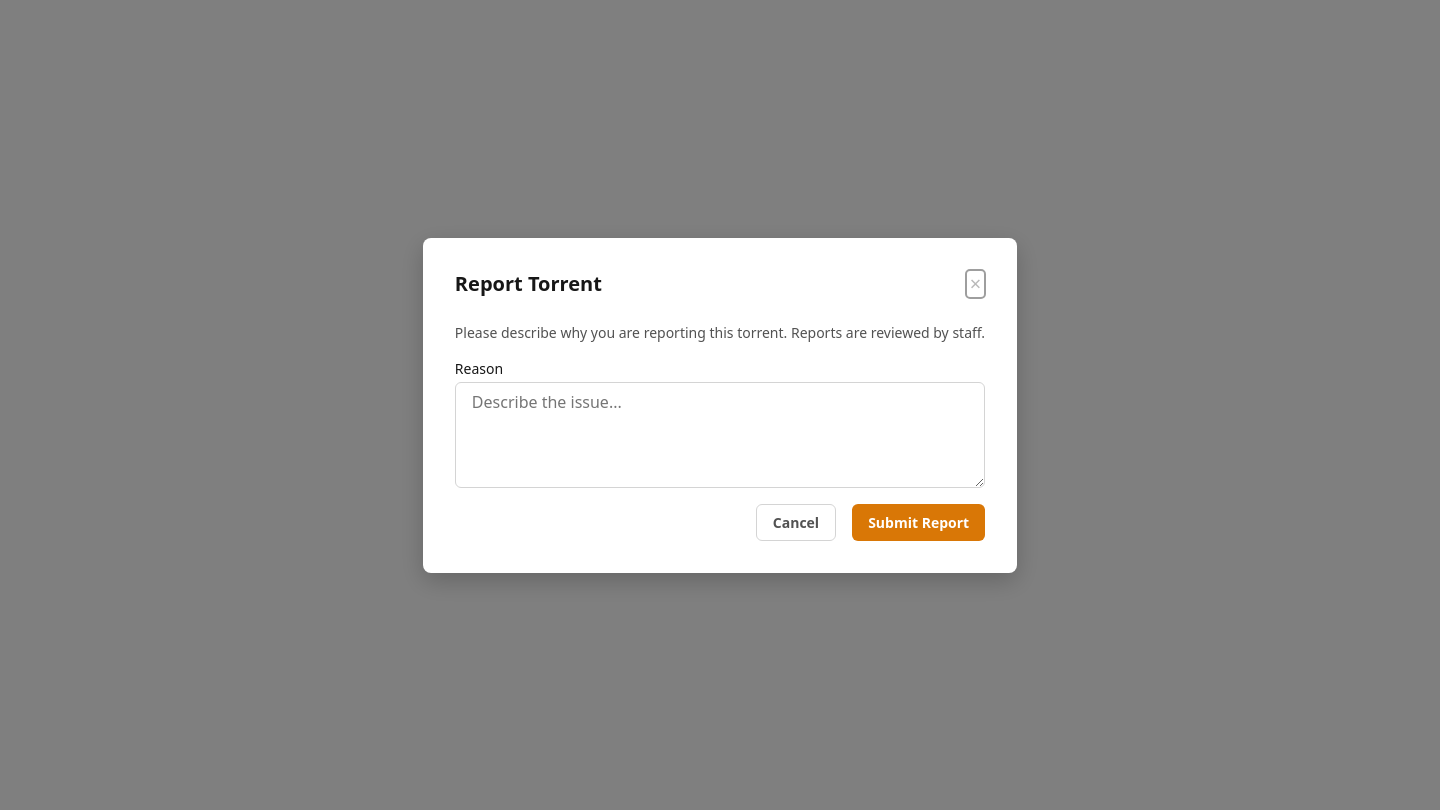
Test: ReportModal › disables buttons while submitting
The width and height of the screenshot is (1440, 810).
Type "Spam content" into the text box labelled "Reason" at (720, 434), box [455,382,985,488]
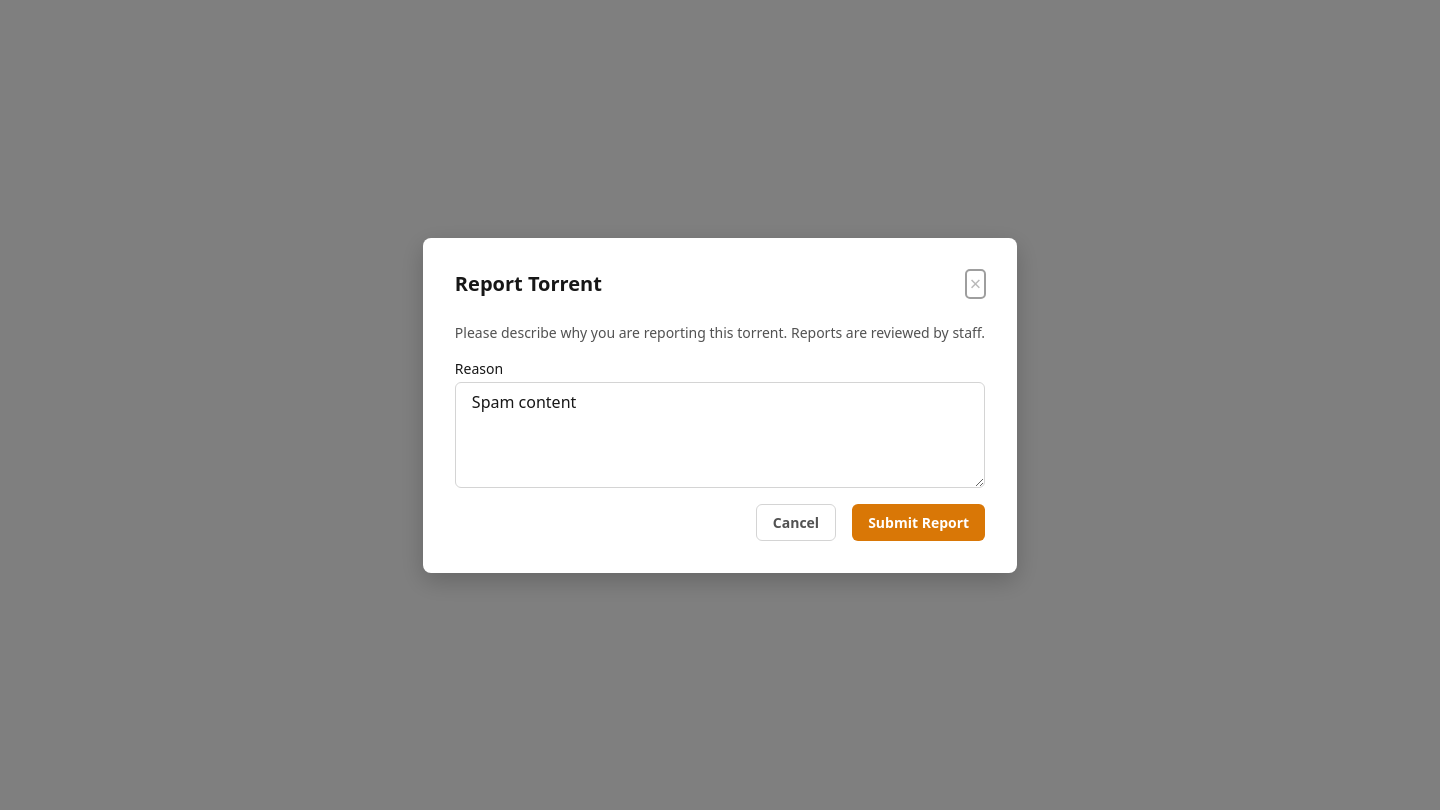
Click the button "Submit Report" at (919, 522), box [852,504,985,540]
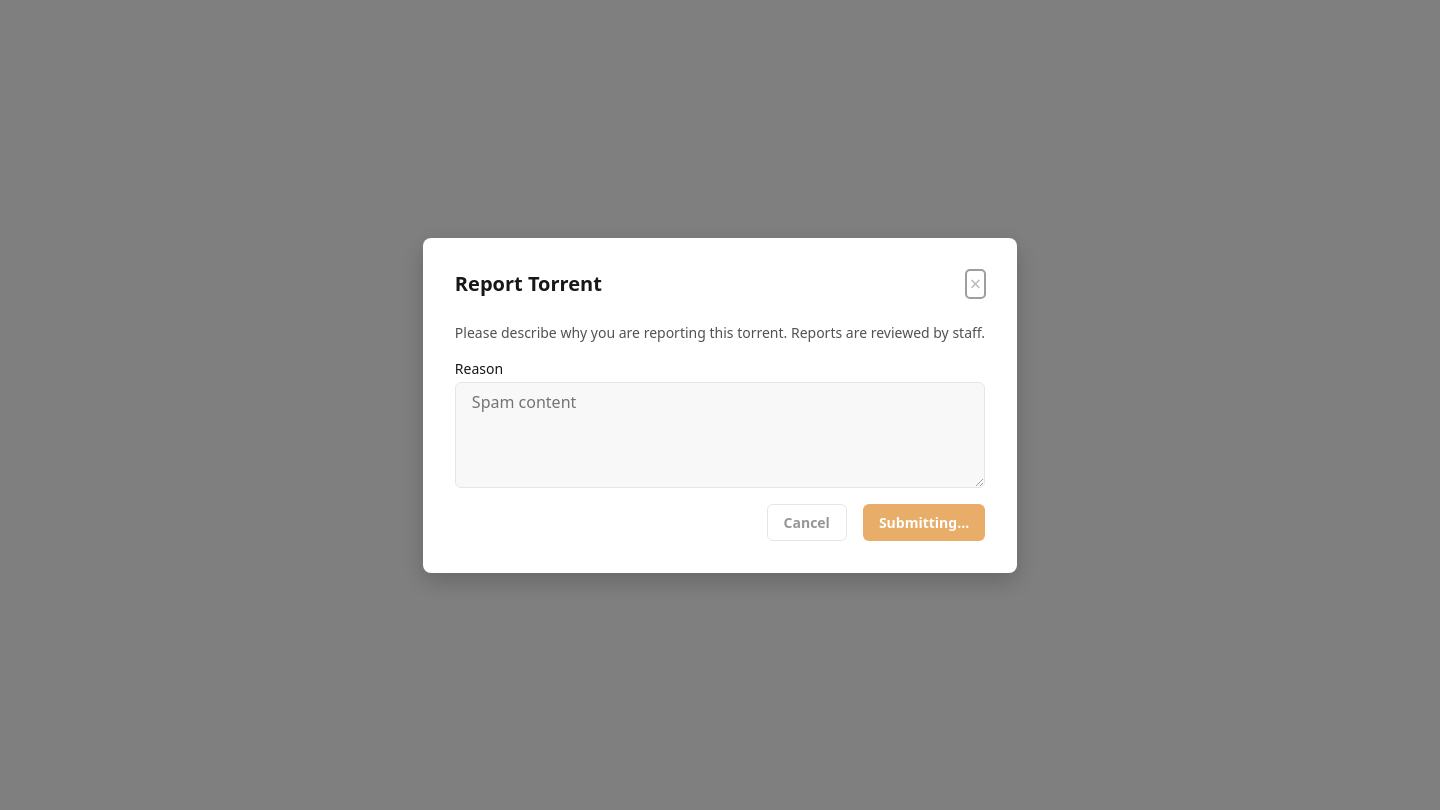
Expected: the button "Submitting..." is disabled, [863,504,985,540]
Expected: the button "Cancel" is disabled, [767,504,847,540]
